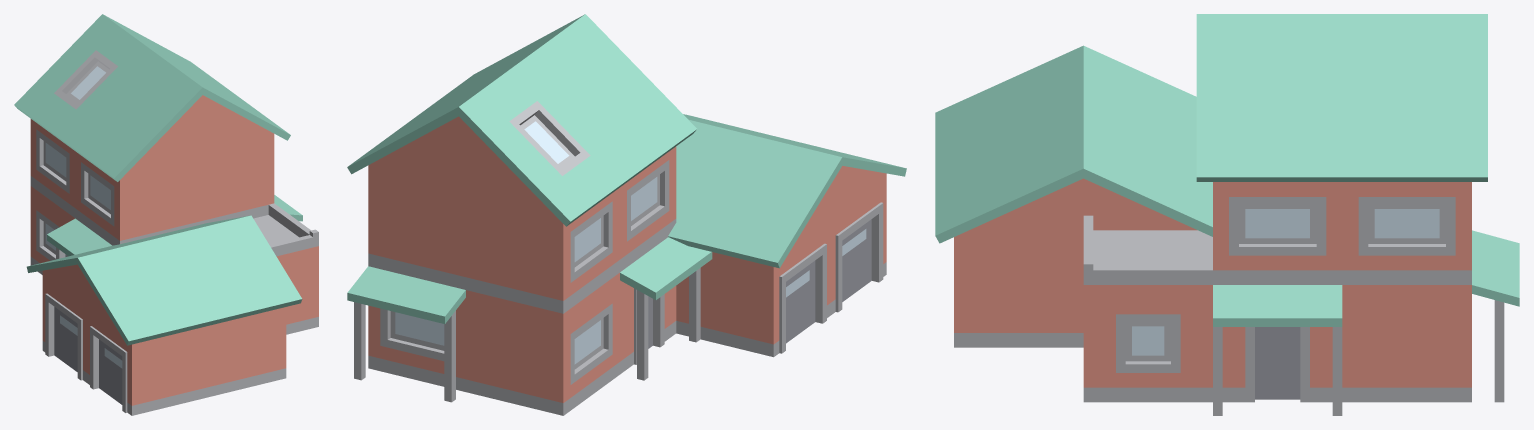
File: house10.fbx
3 views of the same model, side by side, from view 1: azimuth 30°, elevation 25°; view 2: azimuth 150°, elevation 25°; view 3: azimuth 270°, elevation 25° (orthographic). The views are drawn at different scales.
Parts seen in each view (by area): view 1: house_type10; view 2: house_type10; view 3: house_type10.
Part boxes in pixels (x1,y1,x2,y2): house_type10: (14,14,318,415); house_type10: (347,14,906,415); house_type10: (935,14,1519,415).
Bounding box in the file's own units: 1398 × 1138 × 1806.
